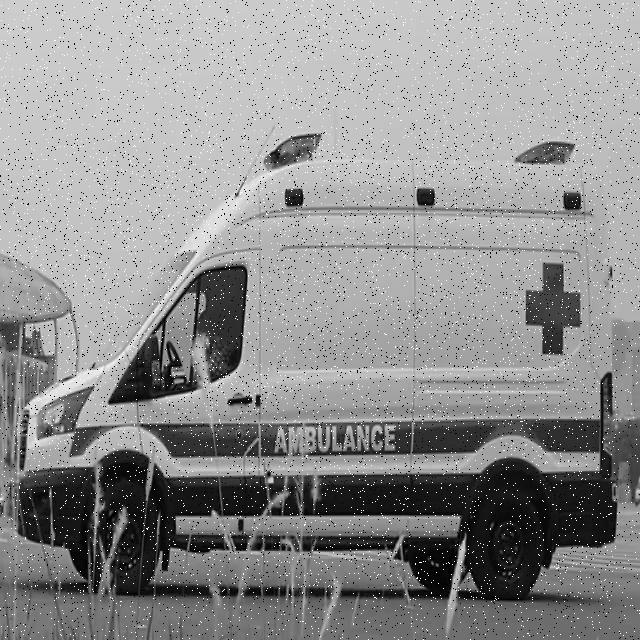Ambulance: (13, 133, 618, 601)
